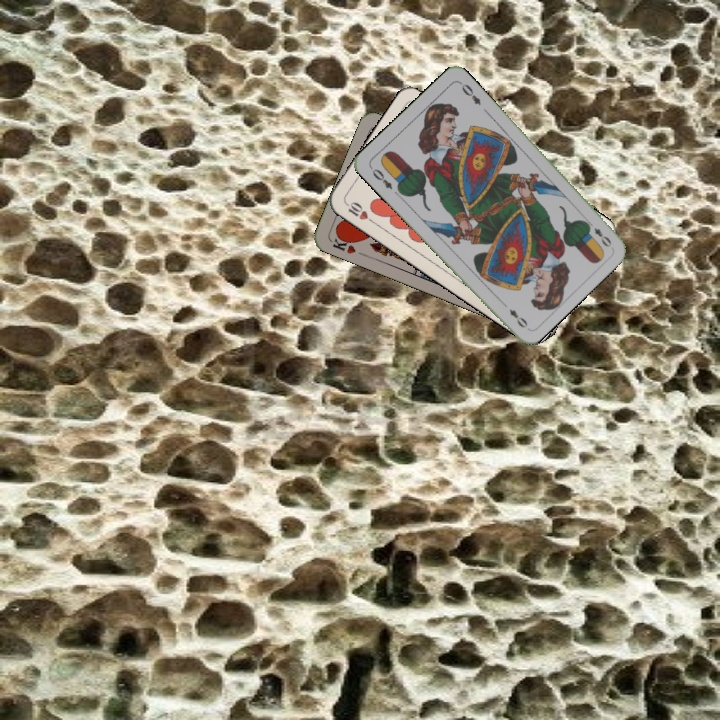EO: (582, 217, 614, 250), (366, 163, 395, 192)
H10: (341, 197, 377, 226)
HK: (327, 231, 359, 256)
